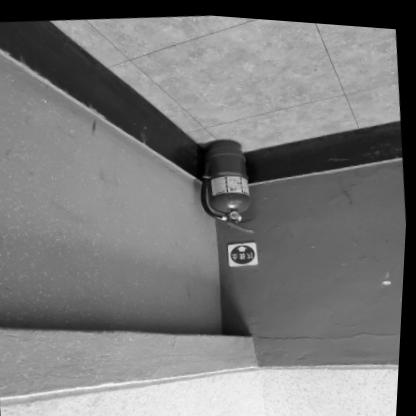FE: (193, 131, 263, 234)
